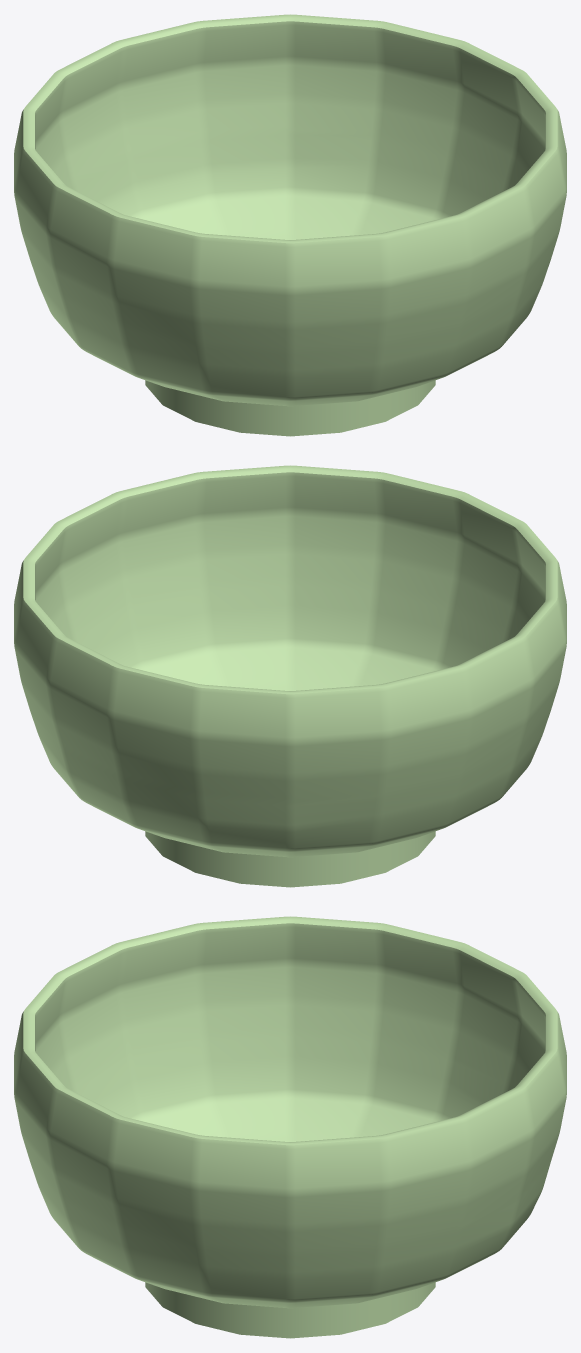
Rendered from xiaowan.fbx.
The picture shows the model from 3 angles, top to bottom: view 1: azimuth 30°, elevation 25°; view 2: azimuth 150°, elevation 25°; view 3: azimuth 270°, elevation 25°; orthographic projection.
Visible parts, largest first — view 1: 小碗; view 2: 小碗; view 3: 小碗.
Part boxes in pixels (x1,y1,x2,y2): 小碗: (14,14,566,436); 小碗: (14,465,566,887); 小碗: (14,916,566,1338).
Size of the model in its own units: 2.65 by 1.28 by 2.61.
